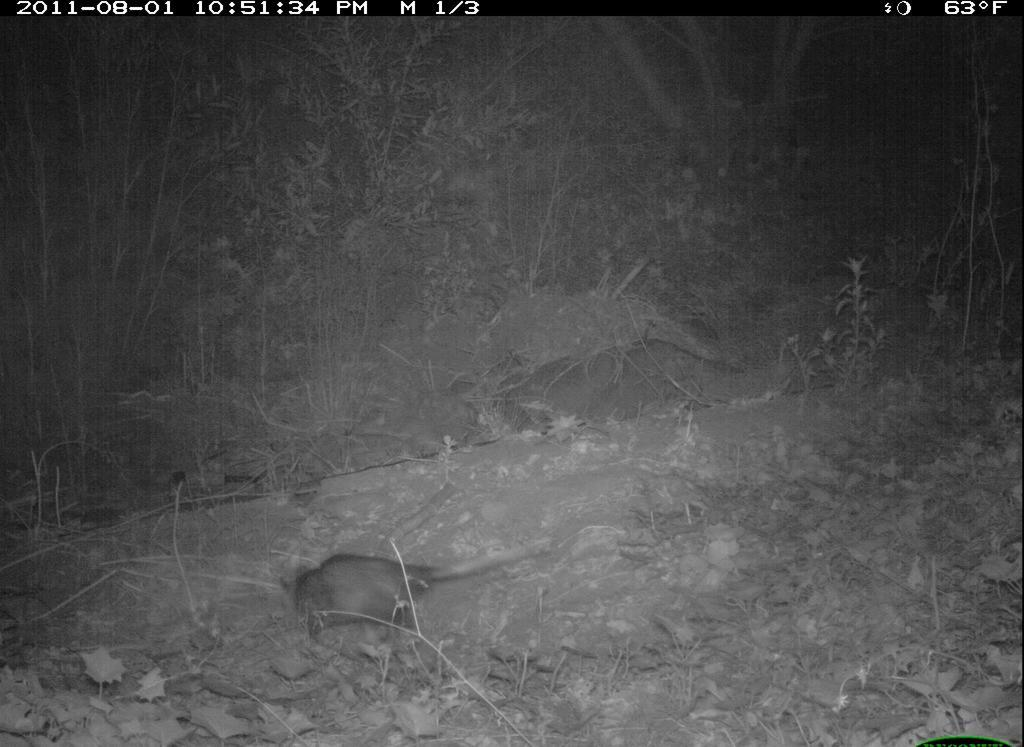opossum: (281, 532, 555, 635)
